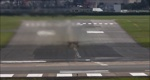maybay_muctieu: (63, 36, 82, 49)
